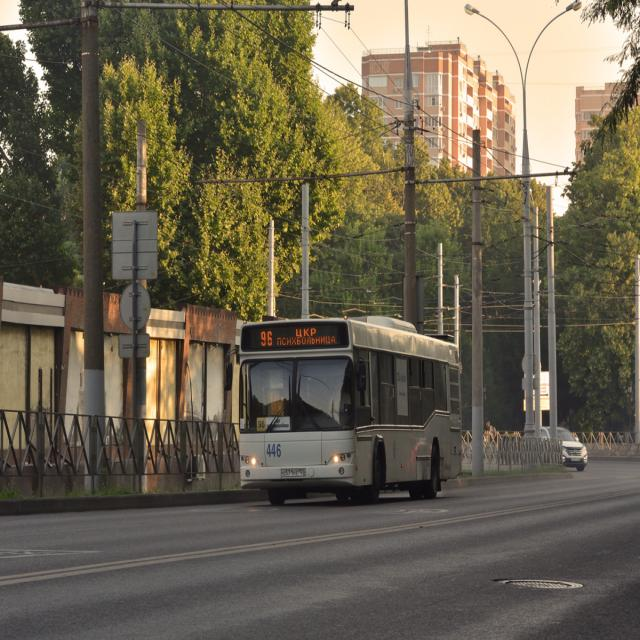number-of-bus: (261, 330, 275, 349), (259, 420, 267, 432)
